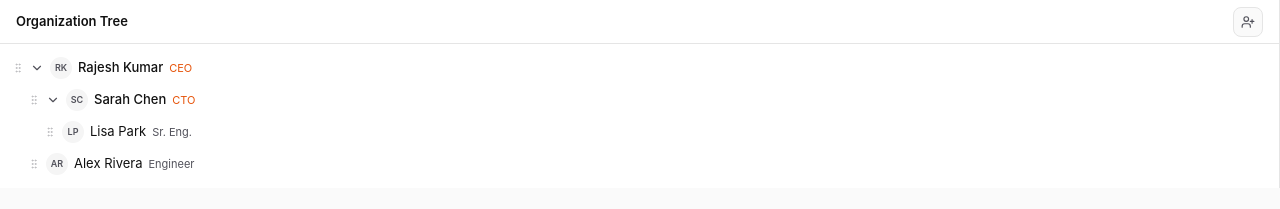
Test: InteractiveTree › enters rename mode on F2 after selecting a node
Click the text "Alex Rivera": (108, 164) [74,154,142,174]
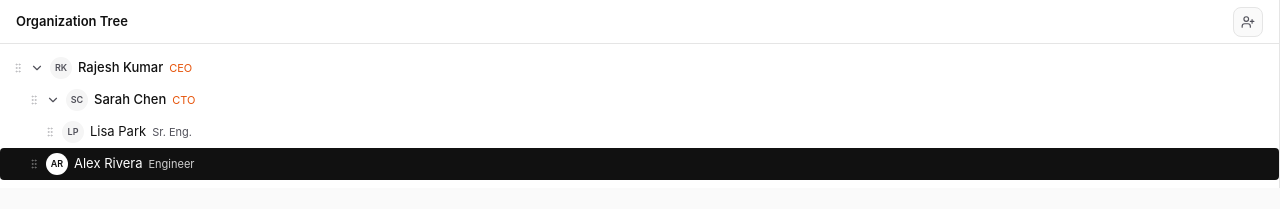
Press F2
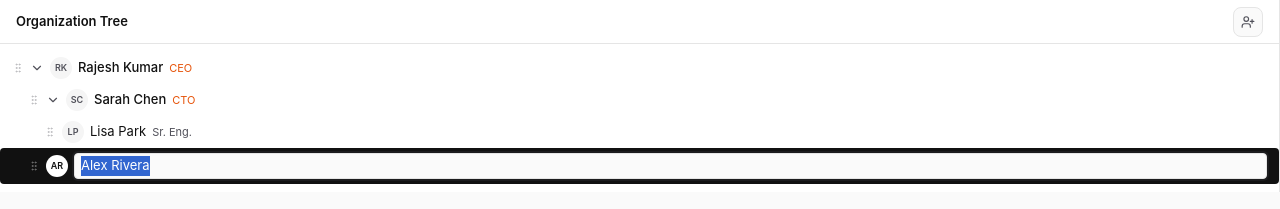
Result: the field with test id "tree-rename-input" holds "Alex Rivera" at [74,153,1267,178]
